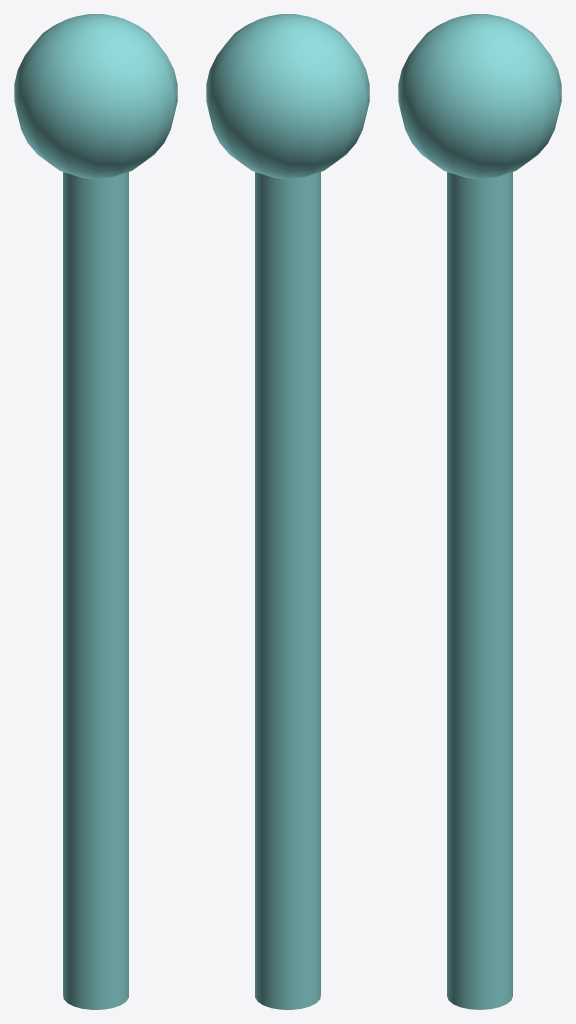
The model's file is Electree_trunk_001.fbx.
3 views of the same model, side by side, from view 1: azimuth 30°, elevation 25°; view 2: azimuth 150°, elevation 25°; view 3: azimuth 270°, elevation 25° (orthographic).
Parts seen in each view (by area): view 1: pCylinder1, pSphere1; view 2: pCylinder1, pSphere1; view 3: pCylinder1, pSphere1.
Part boxes in pixels (<box>): pCylinder1: <box>63,172,128,1009</box>; pSphere1: <box>14,14,177,178</box>; pCylinder1: <box>255,172,320,1009</box>; pSphere1: <box>206,14,369,178</box>; pCylinder1: <box>447,172,512,1009</box>; pSphere1: <box>398,14,561,178</box>.
Size of the model in its own units: 4.92 by 32.5 by 4.95.
